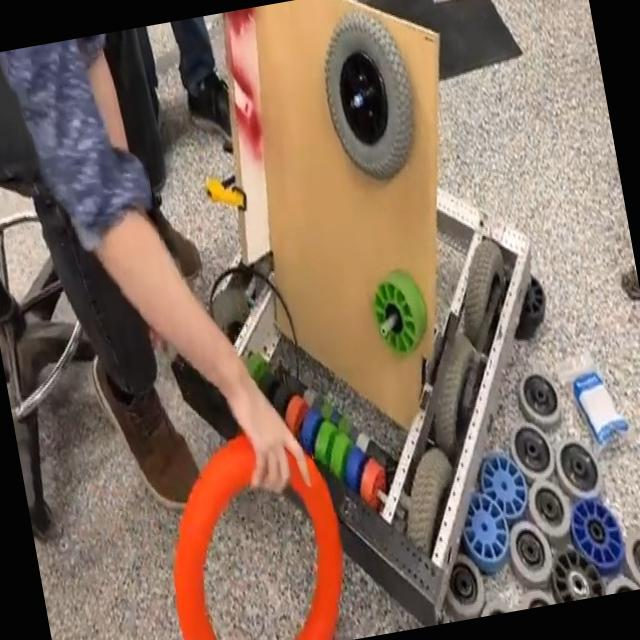note: (145, 413, 361, 640)
